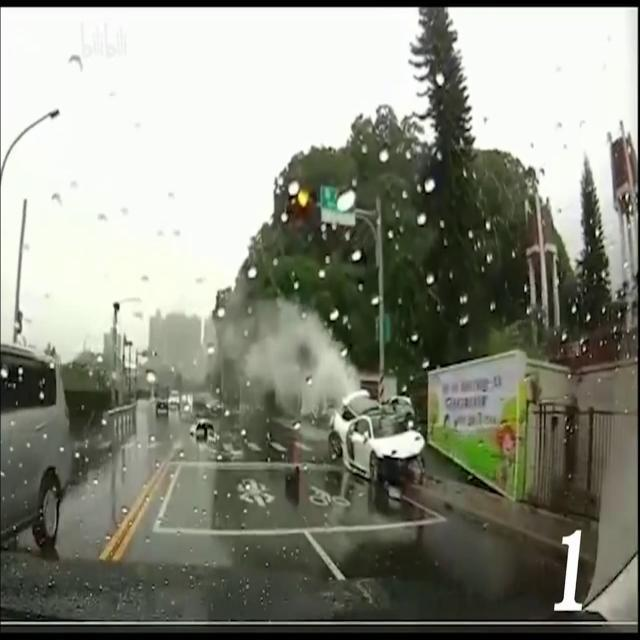multiple_accident: (313, 360, 456, 514)
normal: (0, 337, 96, 533), (147, 364, 247, 467)
